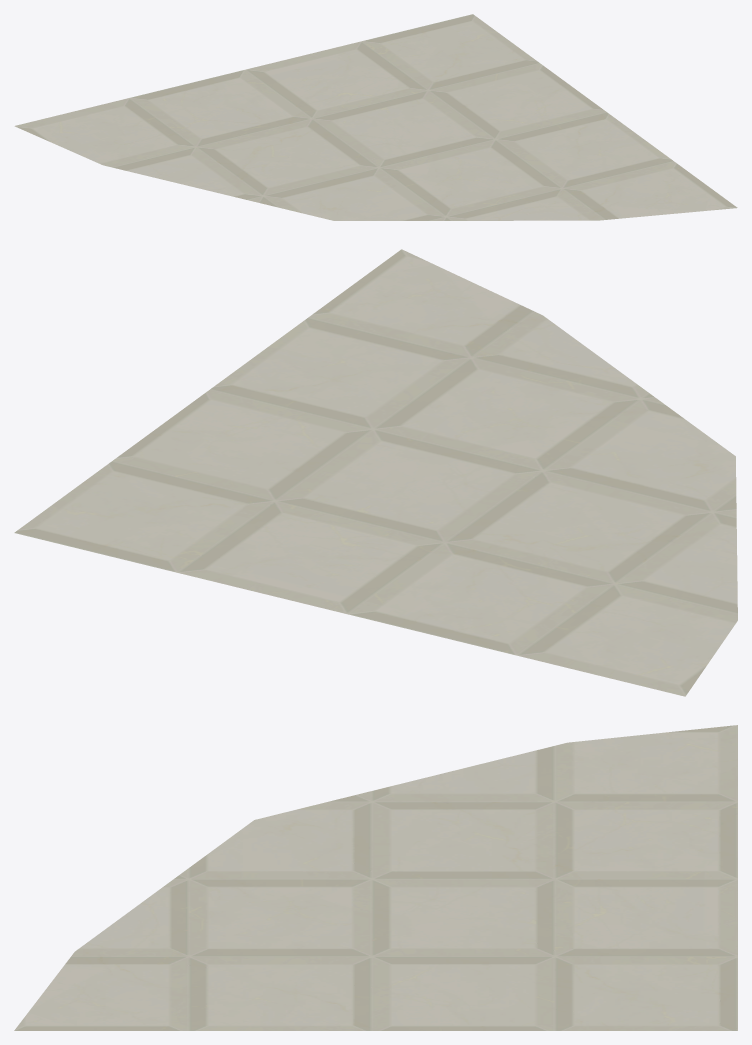
The model's file is Homeworld_Interior_Fd_Room_Floor_02_L_Vo.fbx.
3 renders of one model, top to bottom at view 1: azimuth 30°, elevation 25°; view 2: azimuth 150°, elevation 25°; view 3: azimuth 270°, elevation 25°, orthographic. The views are drawn at different scales.
Visible parts, largest first — view 1: Homeworld_Interior_Fd_Room_Floor_02_L_Vo; view 2: Homeworld_Interior_Fd_Room_Floor_02_L_Vo; view 3: Homeworld_Interior_Fd_Room_Floor_02_L_Vo.
Part boxes in pixels (x1=…): Homeworld_Interior_Fd_Room_Floor_02_L_Vo: x1=14, y1=14, x2=737, y2=220; Homeworld_Interior_Fd_Room_Floor_02_L_Vo: x1=14, y1=249, x2=737, y2=696; Homeworld_Interior_Fd_Room_Floor_02_L_Vo: x1=14, y1=725, x2=737, y2=1030.
Bounding box in the file's own units: 5 × 4.2e-07 × 5.
